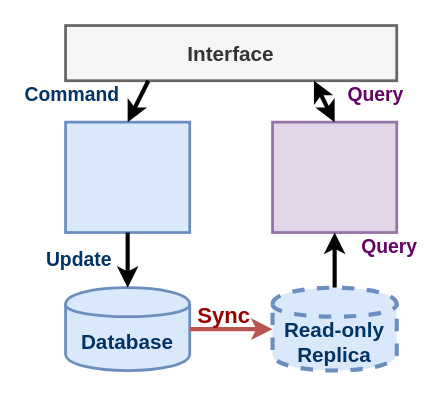
This 447x396 diagram has some shape labels left out. Each missing label, with the centre of its shape:
Command Model: the point at 126,176
Query Model: the point at 333,176
